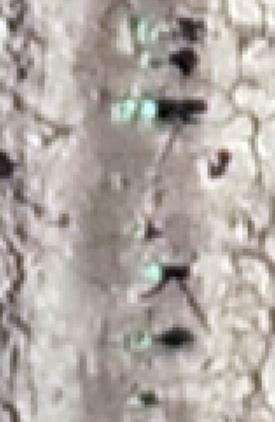cotton: (140, 20, 155, 43), (144, 99, 158, 118), (136, 330, 150, 347), (150, 264, 162, 281), (139, 51, 152, 66), (137, 393, 143, 404)
